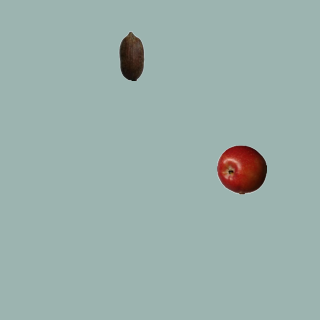Apple Braeburn: (216, 144, 266, 194)
Nut Pecan: (106, 30, 156, 80)
